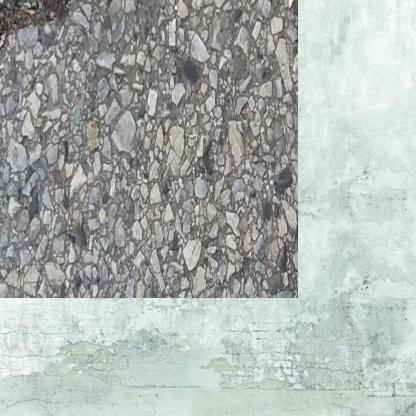Cracks: (0, 0, 115, 91)
